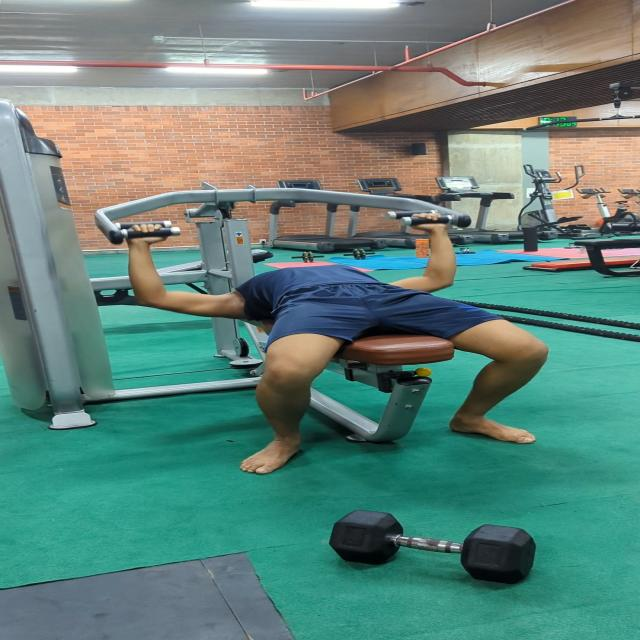Normal_BrenchPress: (121, 204, 555, 466)
